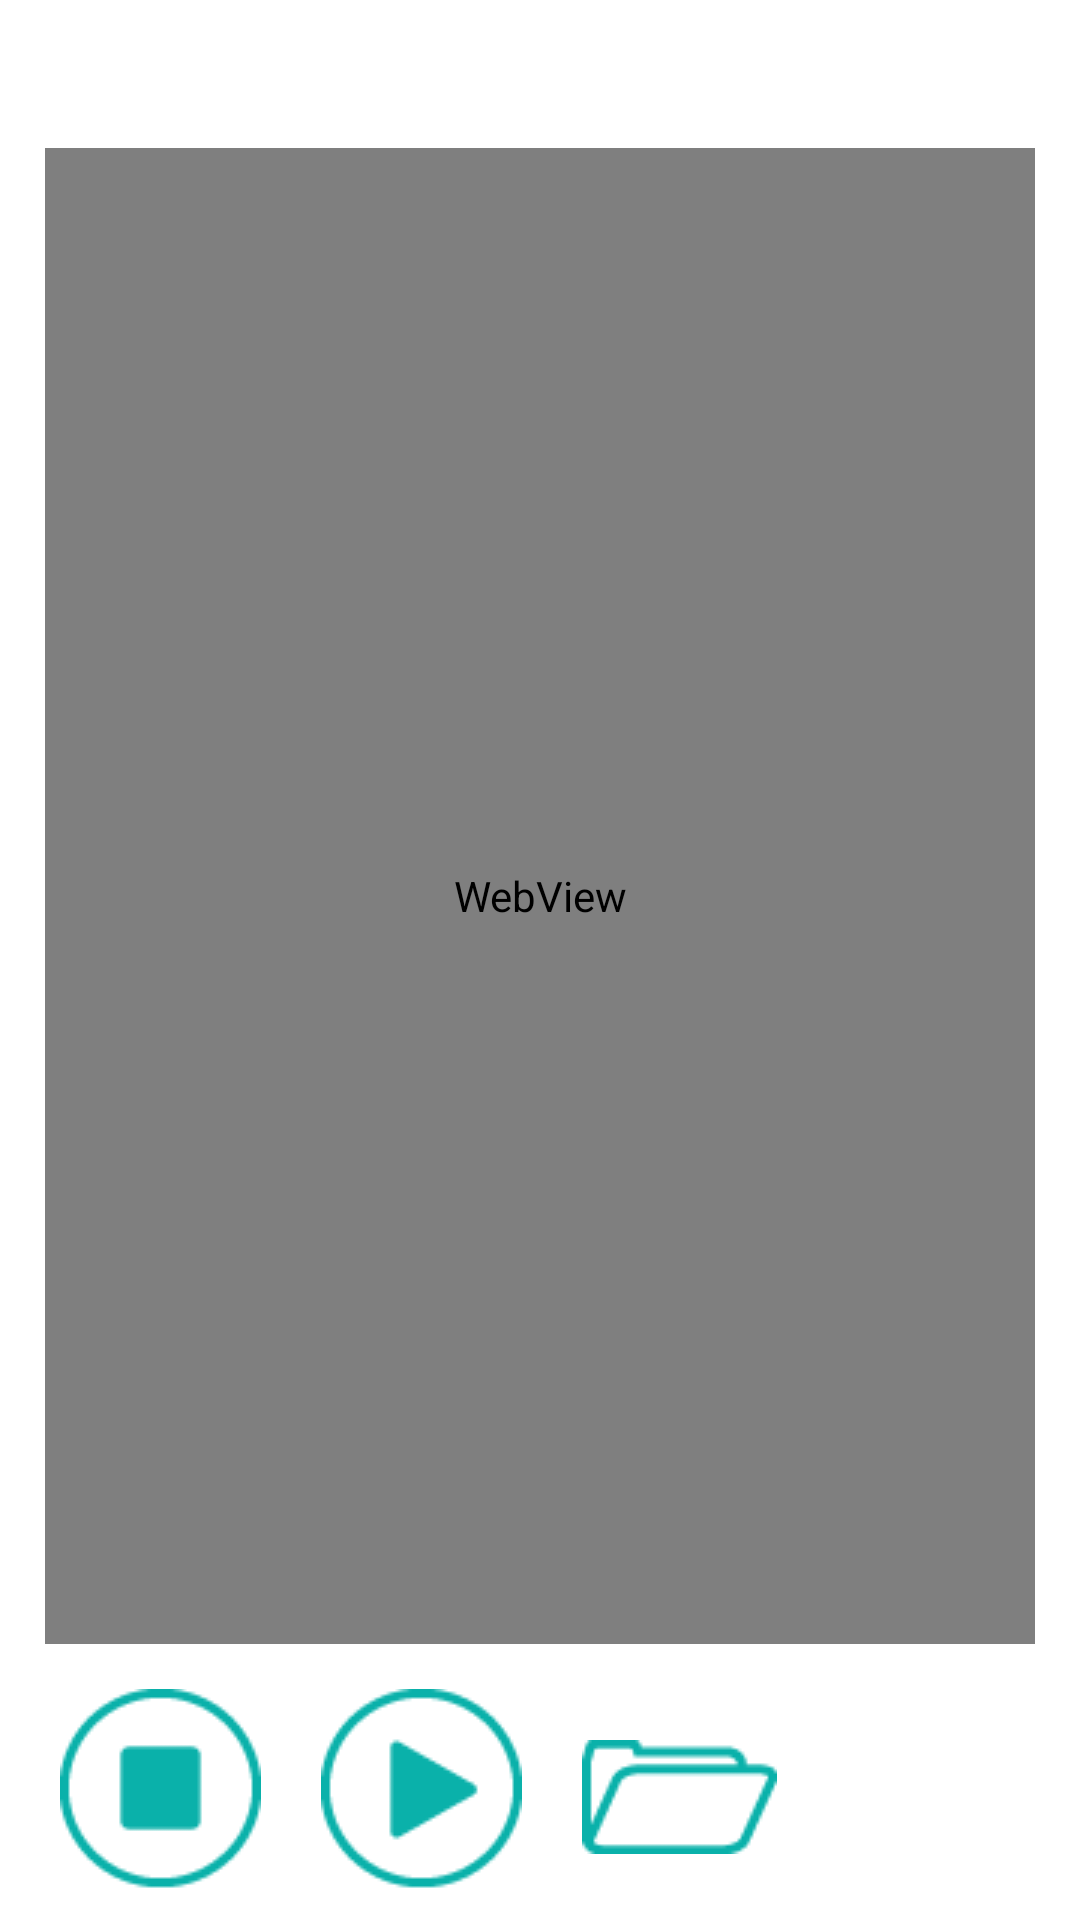

Named icons in this screenshot (1080 x 1920) and their bounding boxes, (x1, y1, x2, y2):
folder: (582, 1740, 777, 1854)
play: (321, 1689, 522, 1888)
stop: (60, 1689, 261, 1888)
